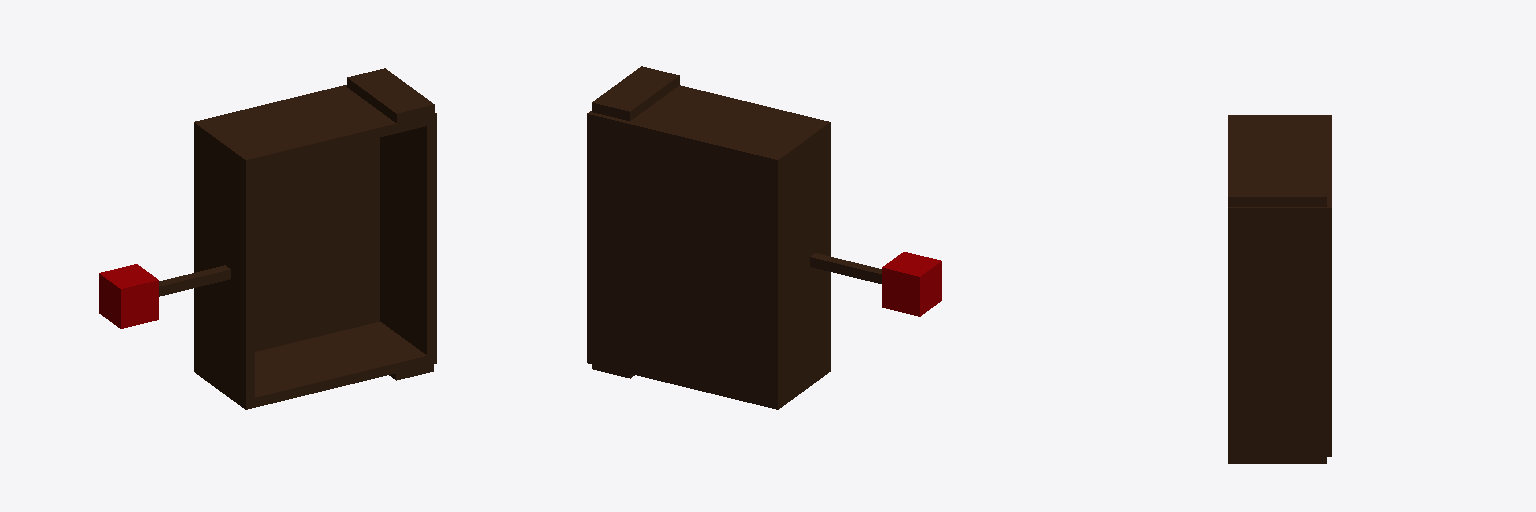
File: drawer.obj
3 renders of one model, left to right at view 1: azimuth 30°, elevation 25°; view 2: azimuth 150°, elevation 25°; view 3: azimuth 270°, elevation 25°, orthographic.
Parts seen in each view (by area): view 1: Cube.002_Cube.015; view 2: Cube.002_Cube.015; view 3: Cube.002_Cube.015.
Boxes of the visible parts, box(x1,y1,x2,y2) form: Cube.002_Cube.015: box(99, 68, 436, 409); Cube.002_Cube.015: box(587, 66, 941, 409); Cube.002_Cube.015: box(1228, 115, 1331, 463).
Bounding box in the file's own units: 0.324 × 0.2672 × 0.095.